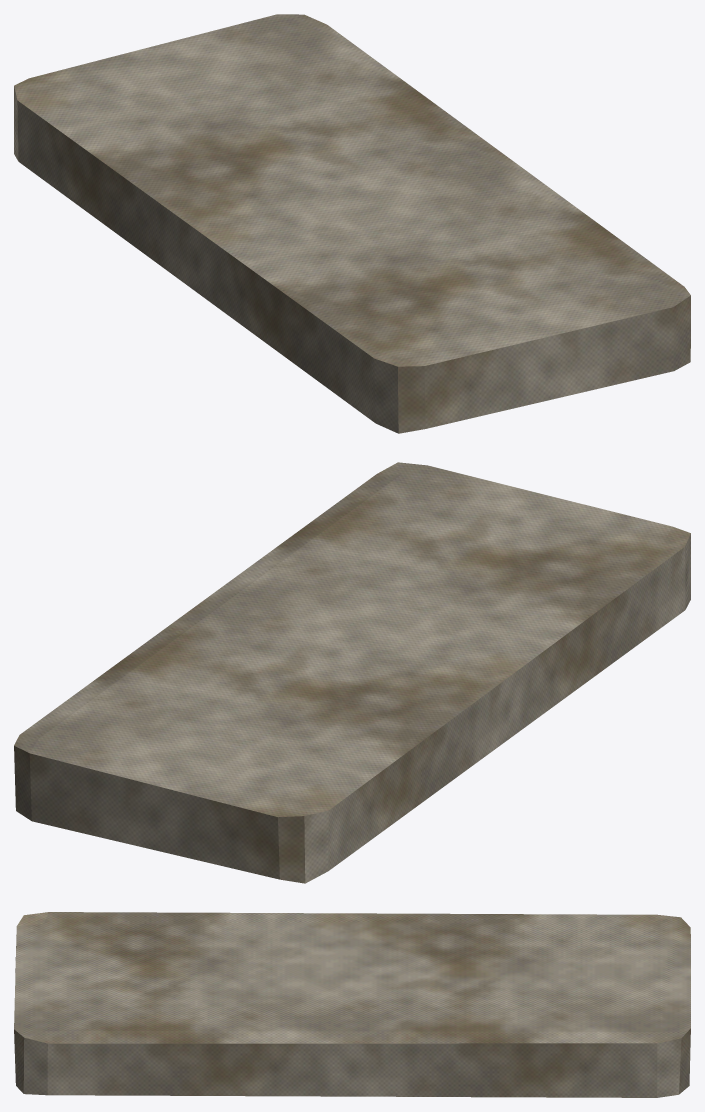
File: BoxSpring.fbx
3 renders of one model, top to bottom at view 1: azimuth 30°, elevation 25°; view 2: azimuth 150°, elevation 25°; view 3: azimuth 270°, elevation 25°, orthographic. The views are drawn at different scales.
Parts seen in each view (by area): view 1: BoxSpring.001; view 2: BoxSpring.001; view 3: BoxSpring.001.
Part boxes in pixels (x1=…): BoxSpring.001: x1=14, y1=14, x2=690, y2=433; BoxSpring.001: x1=14, y1=462, x2=690, y2=883; BoxSpring.001: x1=14, y1=912, x2=690, y2=1097.
Size of the model in its own units: 0.9857 by 0.2108 by 2.18.
1 material, 1 textured.
